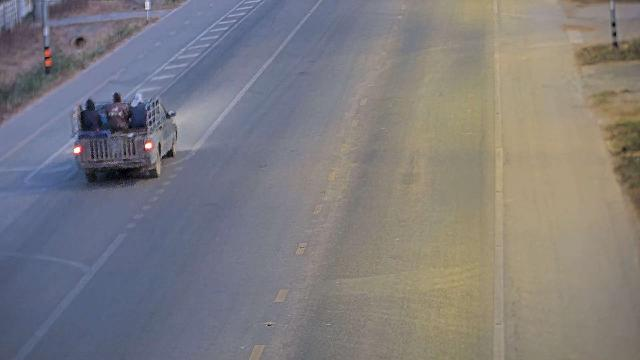pickup-truck: (69, 93, 178, 182)
